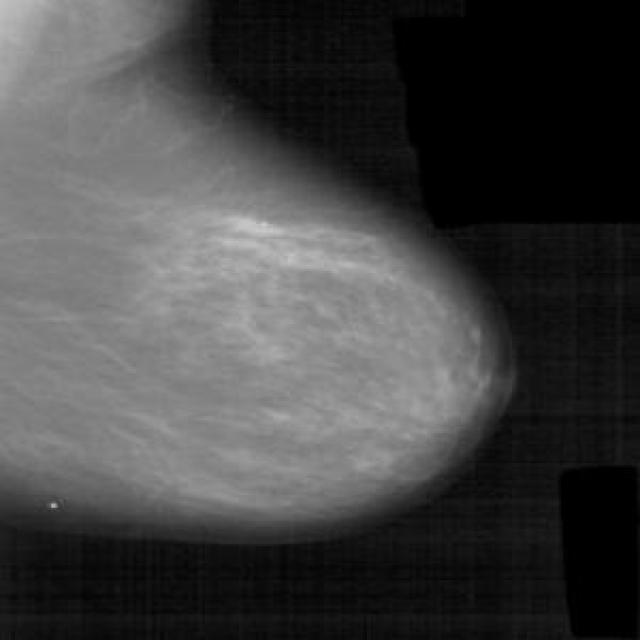tumor: (195, 194, 402, 295)
